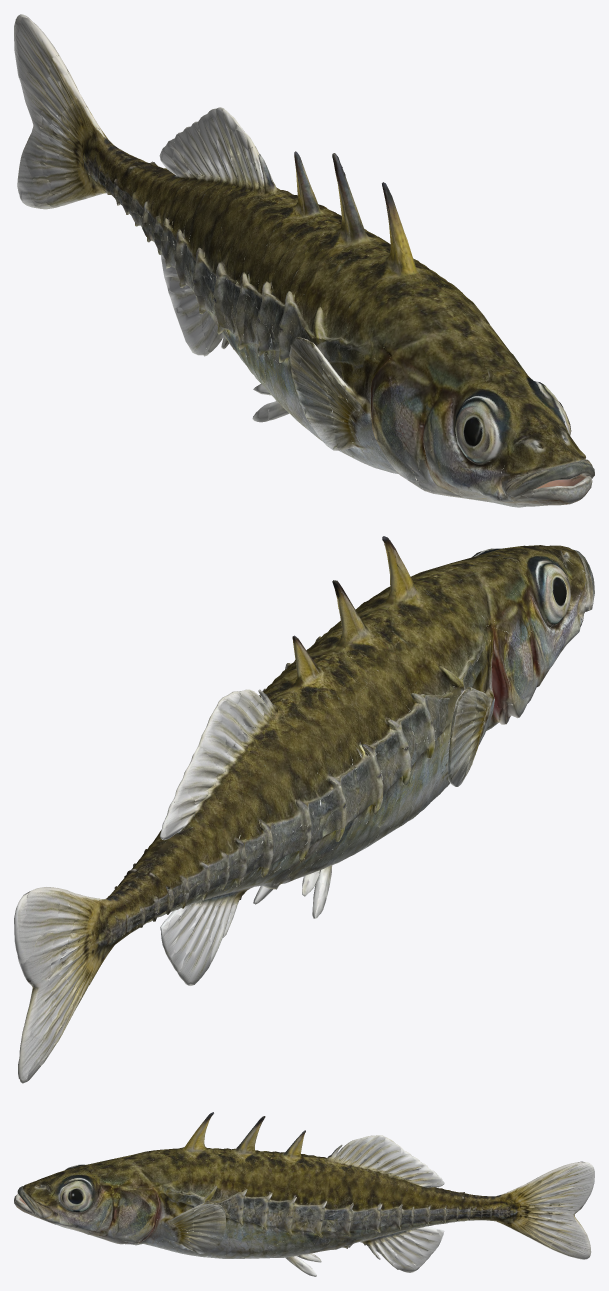
File: ciernik.glb
The picture shows the model from 3 angles, top to bottom: view 1: azimuth 30°, elevation 25°; view 2: azimuth 150°, elevation 25°; view 3: azimuth 270°, elevation 25°; orthographic projection. The views are drawn at different scales.
Parts seen in each view (by area): view 1: Mesh_0; view 2: Mesh_0; view 3: Mesh_0.
Part boxes in pixels (left/top/right/bottom): Mesh_0: left=14, top=14, right=594, bottom=507; Mesh_0: left=14, top=536, right=594, bottom=1083; Mesh_0: left=14, top=1112, right=594, bottom=1276.
Bounding box in the file's own units: 0.3243 × 0.5796 × 1.9.
Materials: 1 (1 with a texture image).
